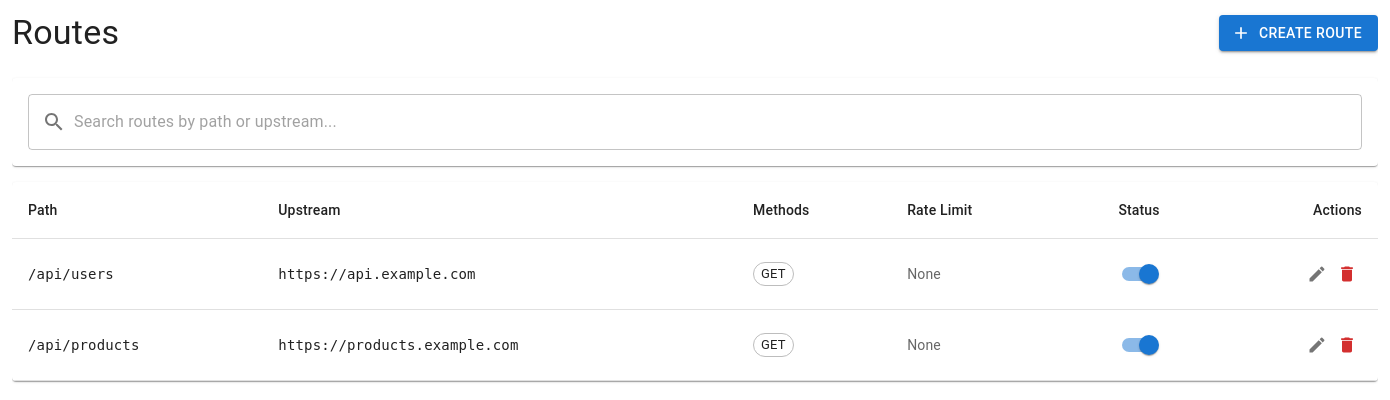
RouteList Component › should filter routes based on search query
The width and height of the screenshot is (1390, 400).
Expected: the text "/api/users" is shown, [28,266,114,282]
Expected: the text "/api/products" is shown, [28,337,140,353]
Step 1. Type "users" into the field with placeholder "Search routes by path or upstream..." → (718, 122), box [74,94,1362,150]
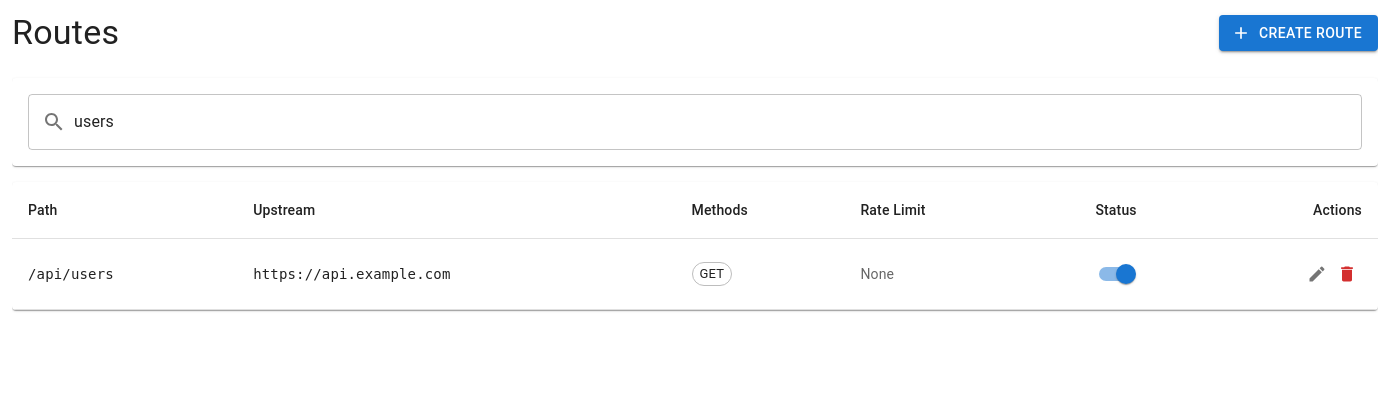
Expected: the text "/api/users" is shown, [28,266,114,282]
Expected: the text "/api/products" is gone
